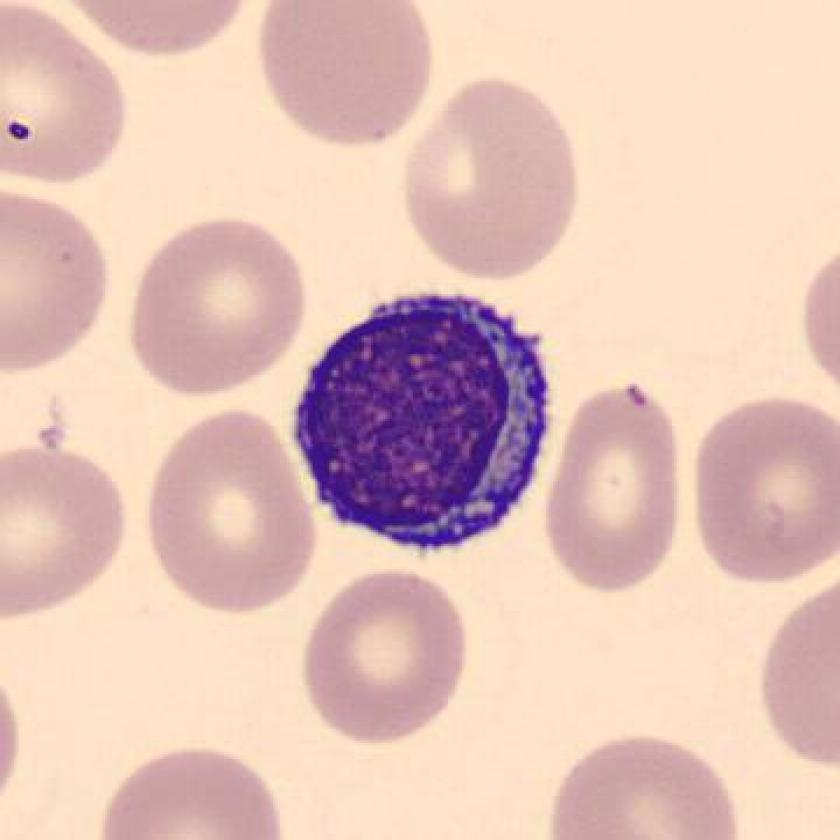lymphocyte: (284, 272, 578, 575)
